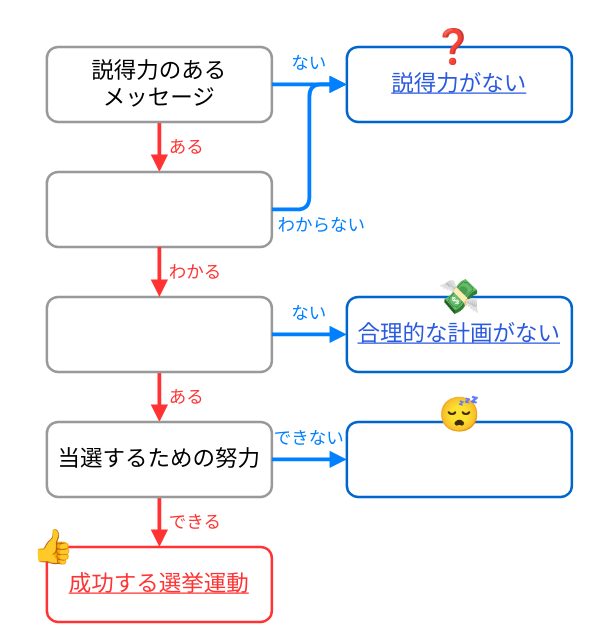
The diagram is 594 pixels wide and 644 high, and some of its shapes have lost their labels. The shapes that lost their labels are listed below. From the top down, each one's centre as x and y in pixels, then its label:
At point (158, 209): "説得するべき有権者".
At point (158, 333): "合理的な計画".
At point (458, 459): "当選するための 努力ができない".
